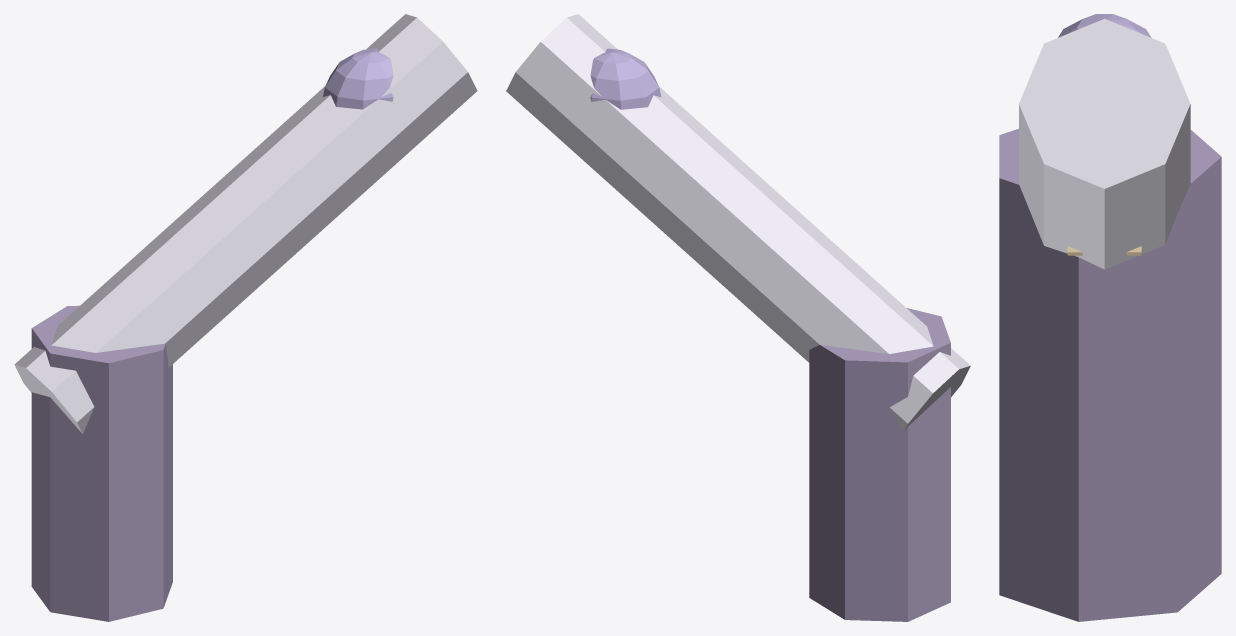
Rendered from moonhill-telescope-01.glb.
3 renders of one model, left to right at view 1: azimuth 30°, elevation 25°; view 2: azimuth 150°, elevation 25°; view 3: azimuth 270°, elevation 25°, orthographic. The views are drawn at different scales.
Visible parts, largest first — view 1: TelescopeTube, Pedestal, Lens; view 2: TelescopeTube, Pedestal, Lens; view 3: Pedestal, TelescopeTube, Lens.
Boxes of the visible parts, box(x1,y1,x2,y2) form: TelescopeTube: box(14, 14, 477, 433); Pedestal: box(31, 305, 172, 621); Lens: box(323, 48, 393, 109); TelescopeTube: box(506, 14, 970, 431); Pedestal: box(809, 308, 950, 621); Lens: box(590, 48, 661, 109); Pedestal: box(999, 128, 1221, 621); TelescopeTube: box(1019, 18, 1190, 269); Lens: box(1058, 14, 1151, 37).
Bounding box in the file's own units: 2.1 × 2.27 × 0.5703.
